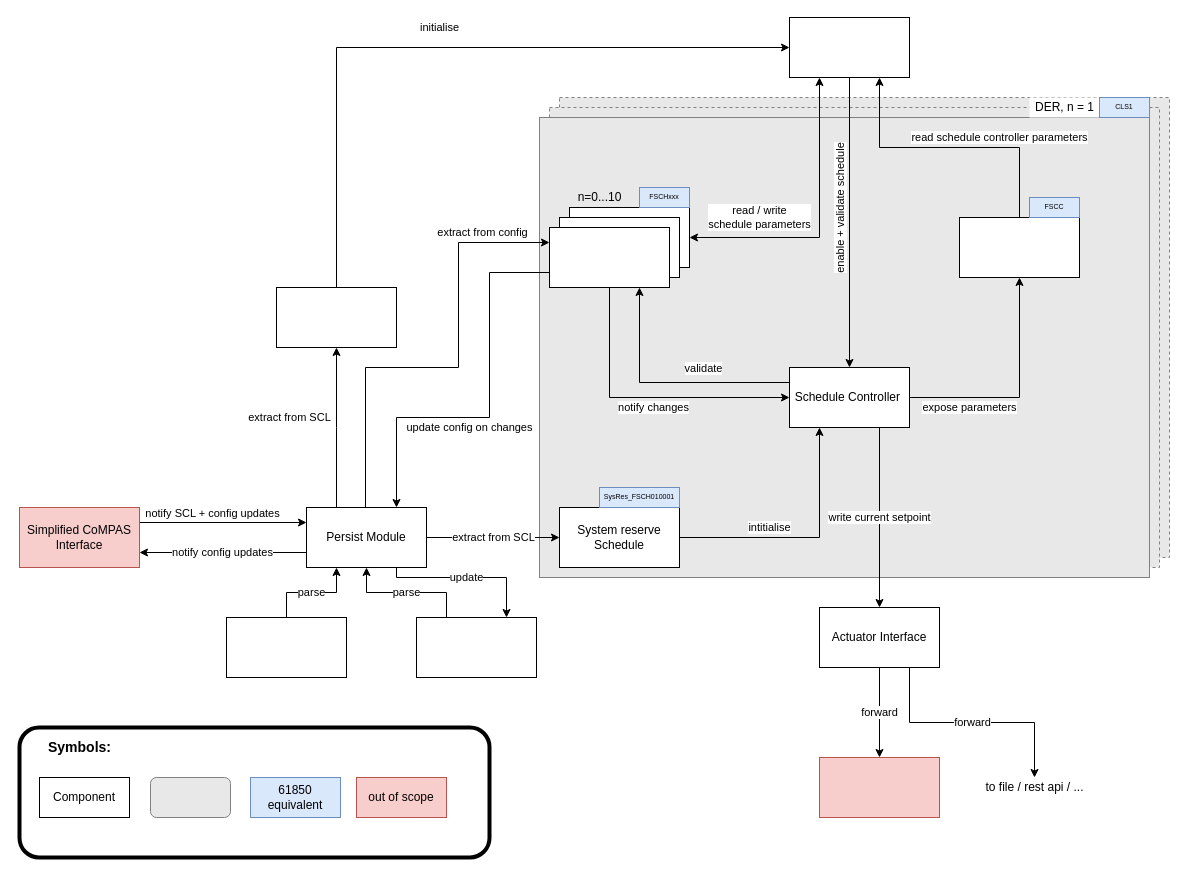
Some shapes in this 1187 by 877 pixel diagram are drawn without their labels. The box of each missing label's shape, as (x1, y1, x2, y2) in pixels:
61850 Server: (788, 16, 910, 78)
Config, as key-value pairs in json: (416, 616, 536, 678)
Fledge IO: (818, 756, 940, 818)
Group, once required per DER: (150, 776, 230, 818)
Schedule Controller DTO: (958, 216, 1080, 278)
Schedule DTO: (548, 226, 670, 288)
SCL: (226, 616, 346, 678)
Server Config: (276, 286, 396, 348)
